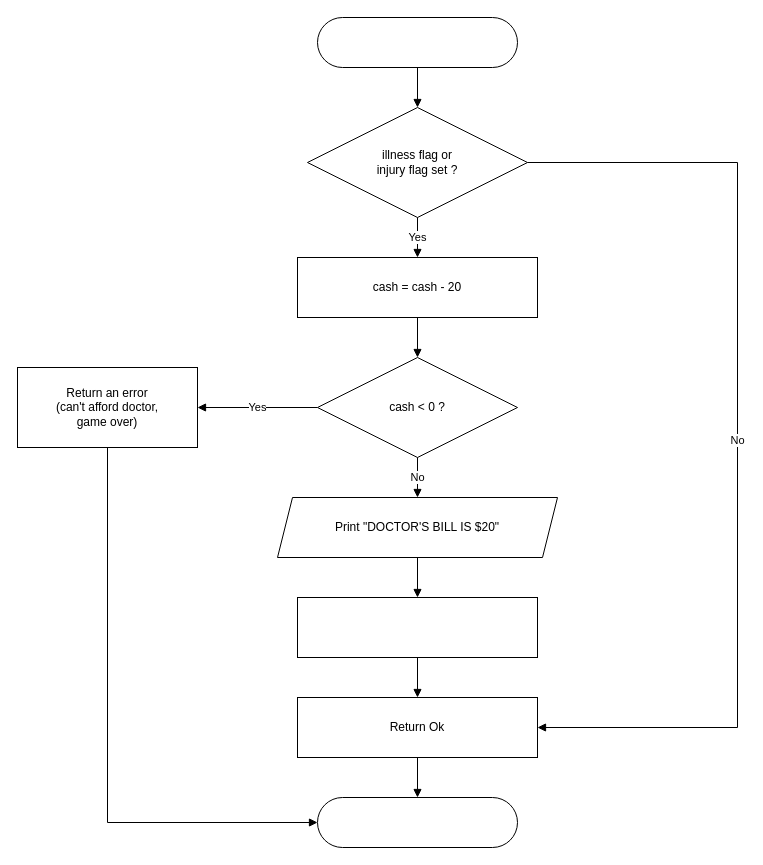
This 763x865 diagram has some shape labels left out. The centre of each missing label's shape, as x and y in pixels:
End: the point at 417,822
illness flag = false injury flag = false: the point at 417,627
Start: the point at 417,42
